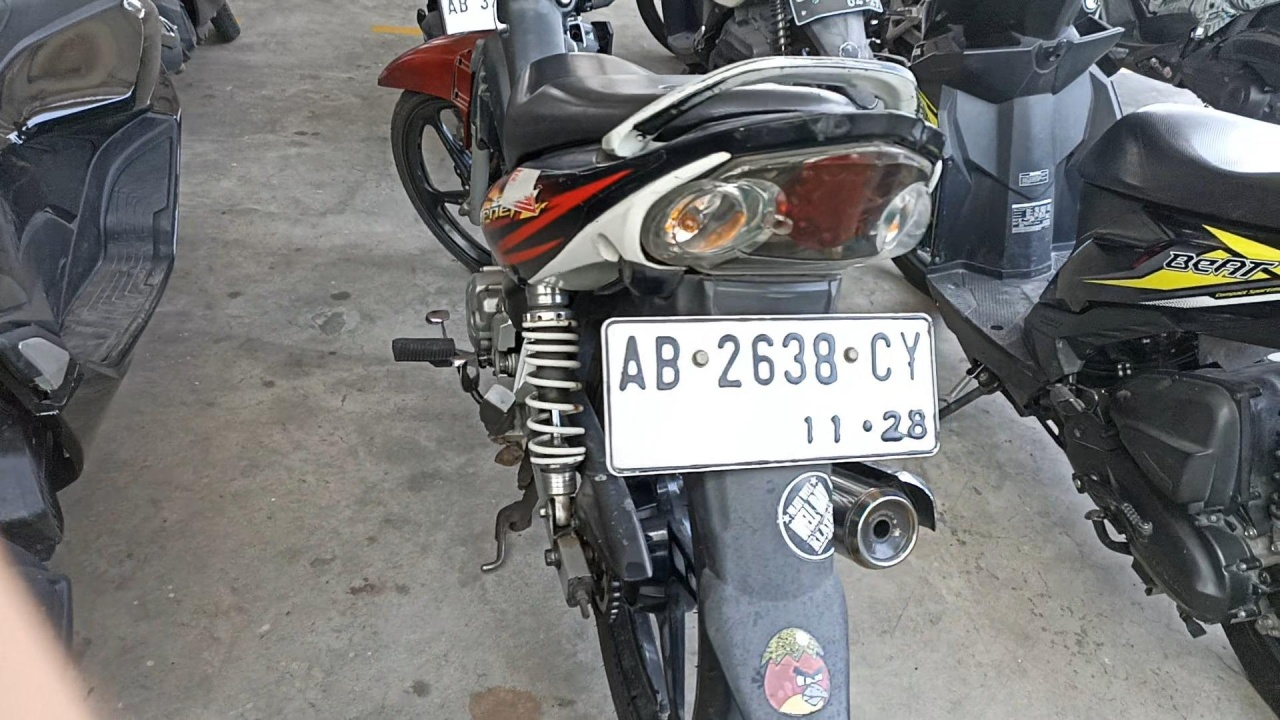plate: (603, 316, 941, 475)
